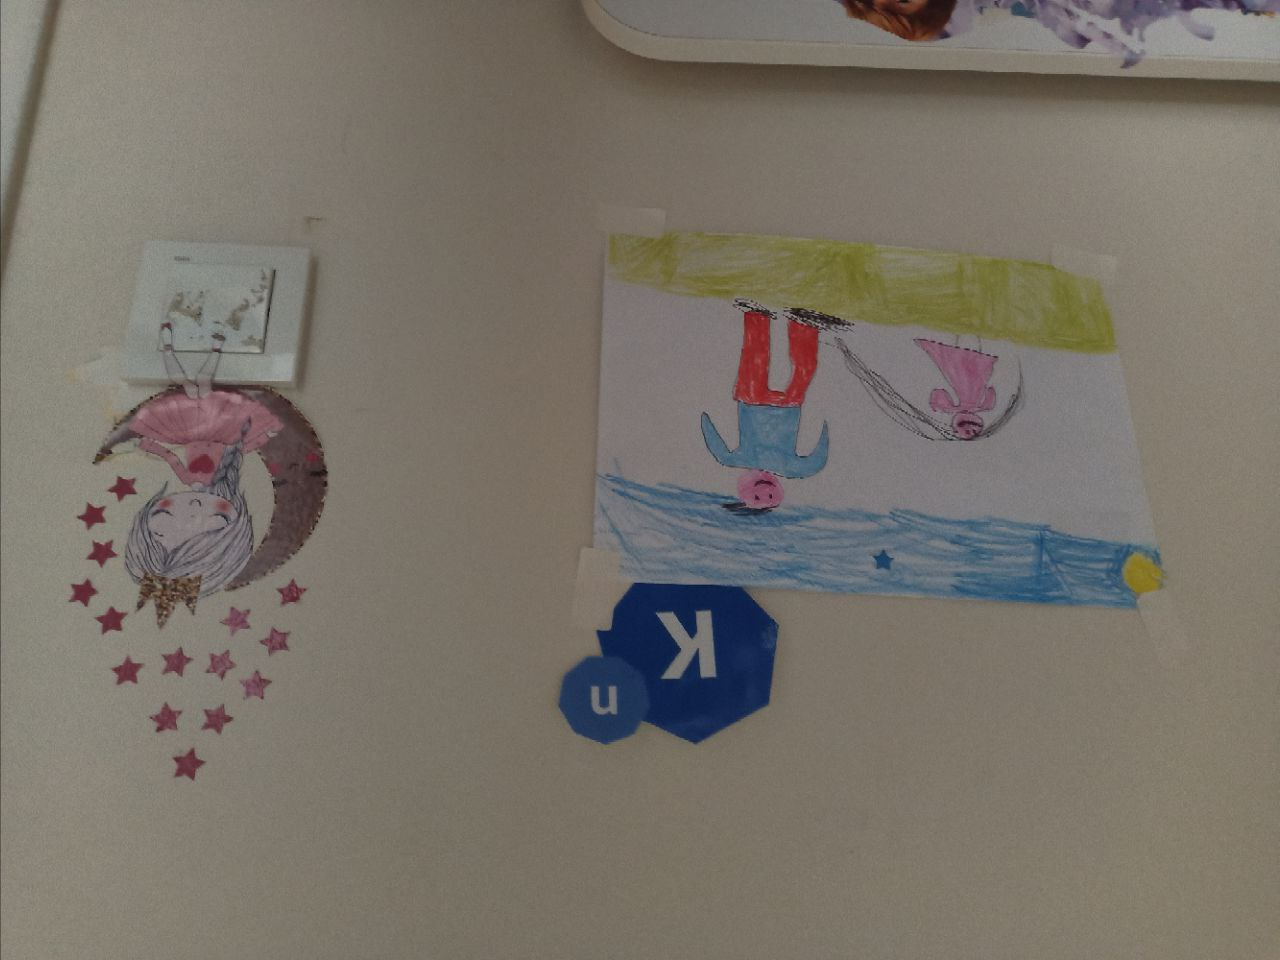knative: (557, 580, 782, 749)
